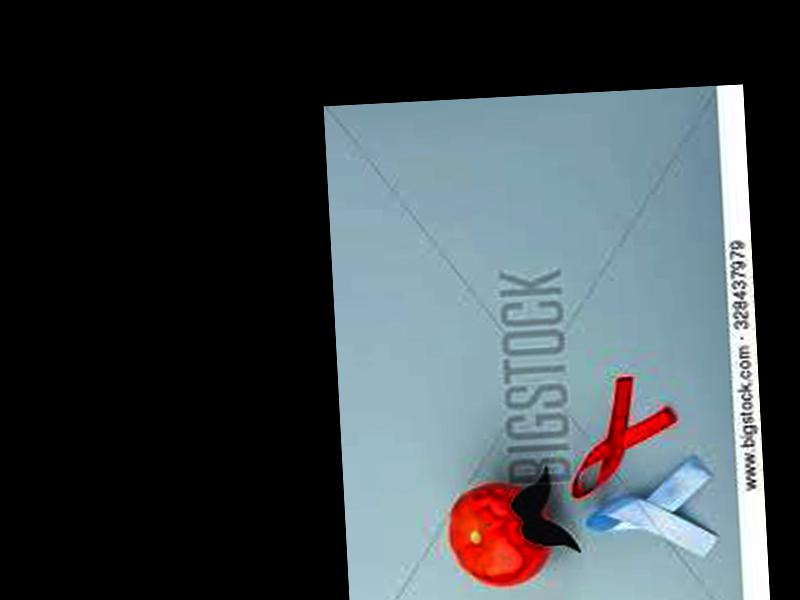Tomato: (446, 480, 553, 588)
